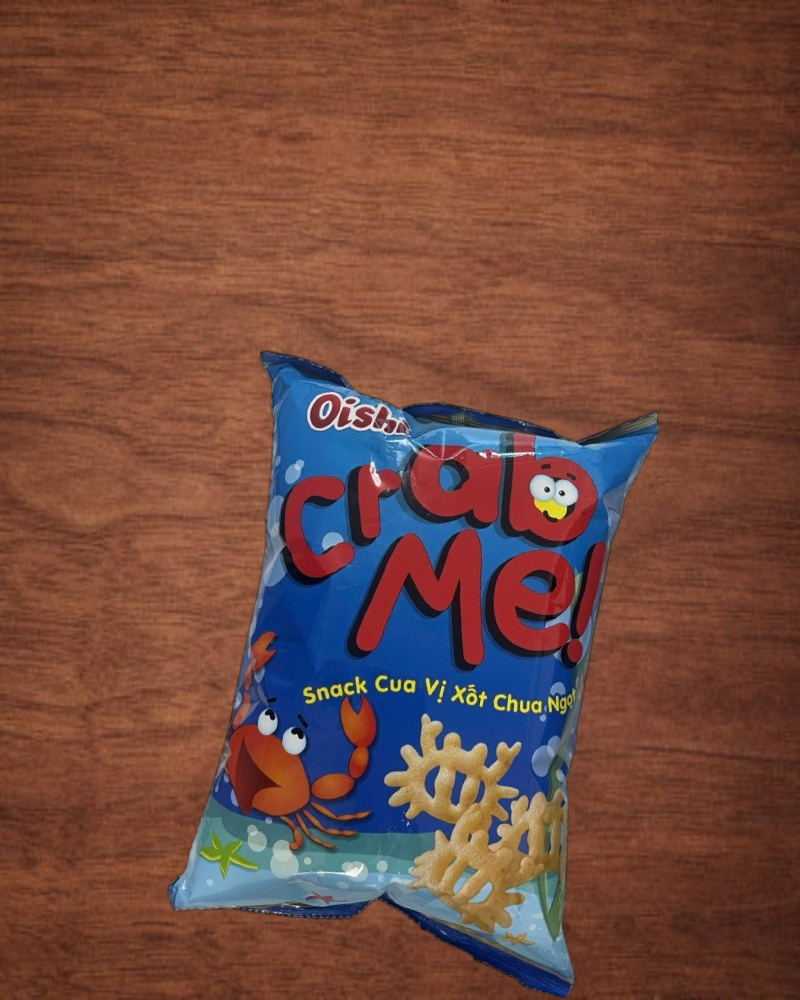Snack cua: (161, 343, 675, 993)
